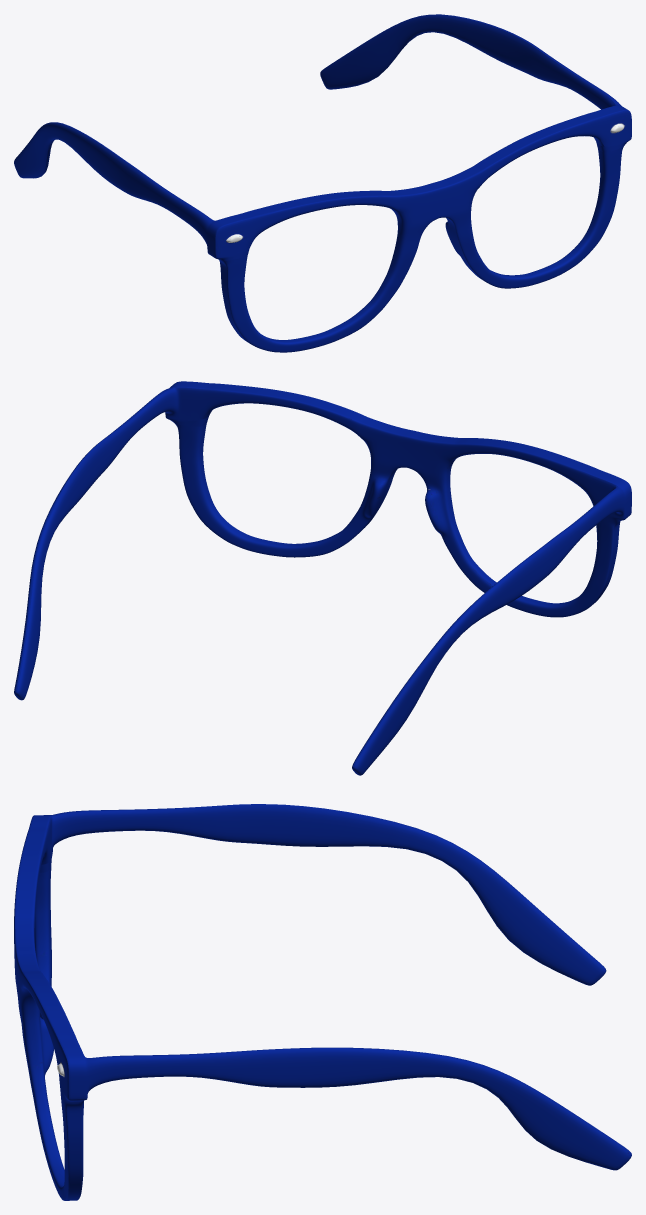
The model's file is rayban-blue.gltf.
The picture shows the model from 3 angles, top to bottom: view 1: azimuth 30°, elevation 25°; view 2: azimuth 150°, elevation 25°; view 3: azimuth 270°, elevation 25°; orthographic projection. The views are drawn at different scales.
Parts seen in each view (by area): view 1: glasses_glasses_0; view 2: glasses_glasses_0; view 3: glasses_glasses_0.
Part boxes in pixels (left/top/right/bottom): glasses_glasses_0: left=14, top=14, right=631, bottom=352; glasses_glasses_0: left=14, top=381, right=631, bottom=775; glasses_glasses_0: left=14, top=804, right=631, bottom=1200.
Size of the model in its own units: 0.153 by 0.0514 by 0.1534.
Materials: 1 (1 with a texture image).
